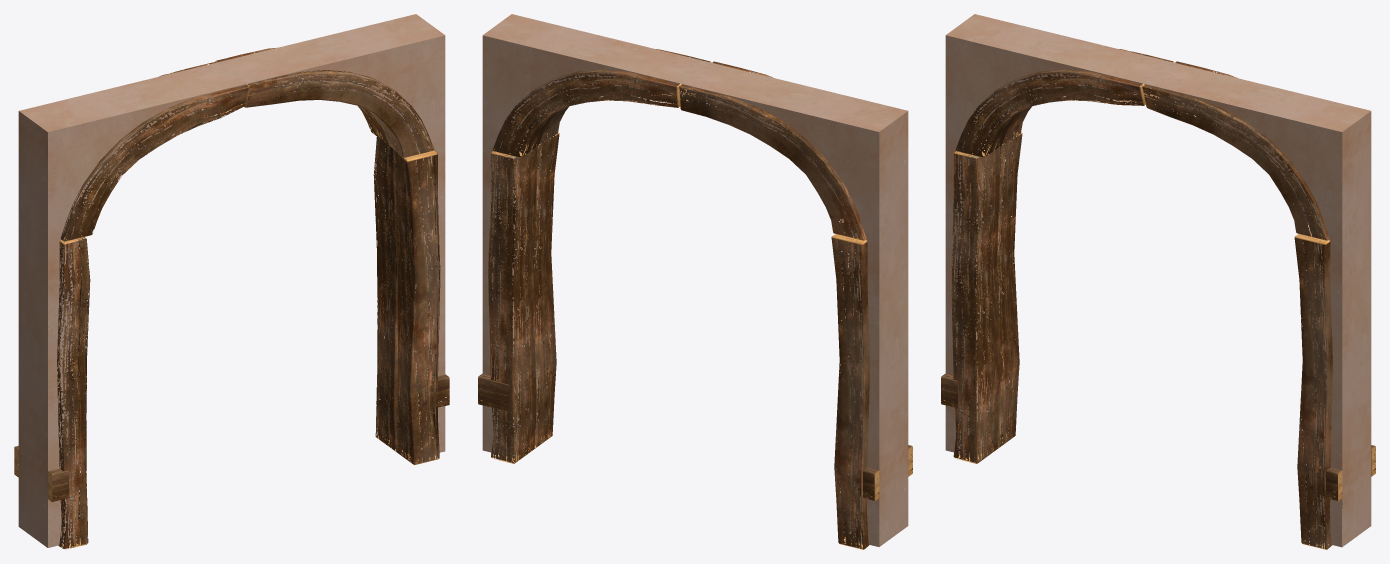
The picture shows the model from 3 angles, left to right: view 1: azimuth 30°, elevation 25°; view 2: azimuth 150°, elevation 25°; view 3: azimuth 330°, elevation 25°; orthographic projection.
Visible parts, largest first — view 1: SM_BB_T4_Wall_Large_Arch_LOD0; view 2: SM_BB_T4_Wall_Large_Arch_LOD0; view 3: SM_BB_T4_Wall_Large_Arch_LOD0.
Boxes of the visible parts, x1,y1,x2,y2 form: SM_BB_T4_Wall_Large_Arch_LOD0: (14, 14, 449, 549); SM_BB_T4_Wall_Large_Arch_LOD0: (478, 14, 912, 549); SM_BB_T4_Wall_Large_Arch_LOD0: (941, 14, 1375, 549).
Bounding box in the file's own units: 3 × 3.02 × 0.5152.
2 materials, 2 textured.
